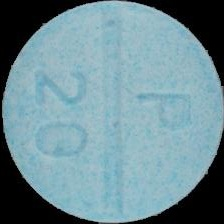64725-1110: (0, 0, 224, 224)
